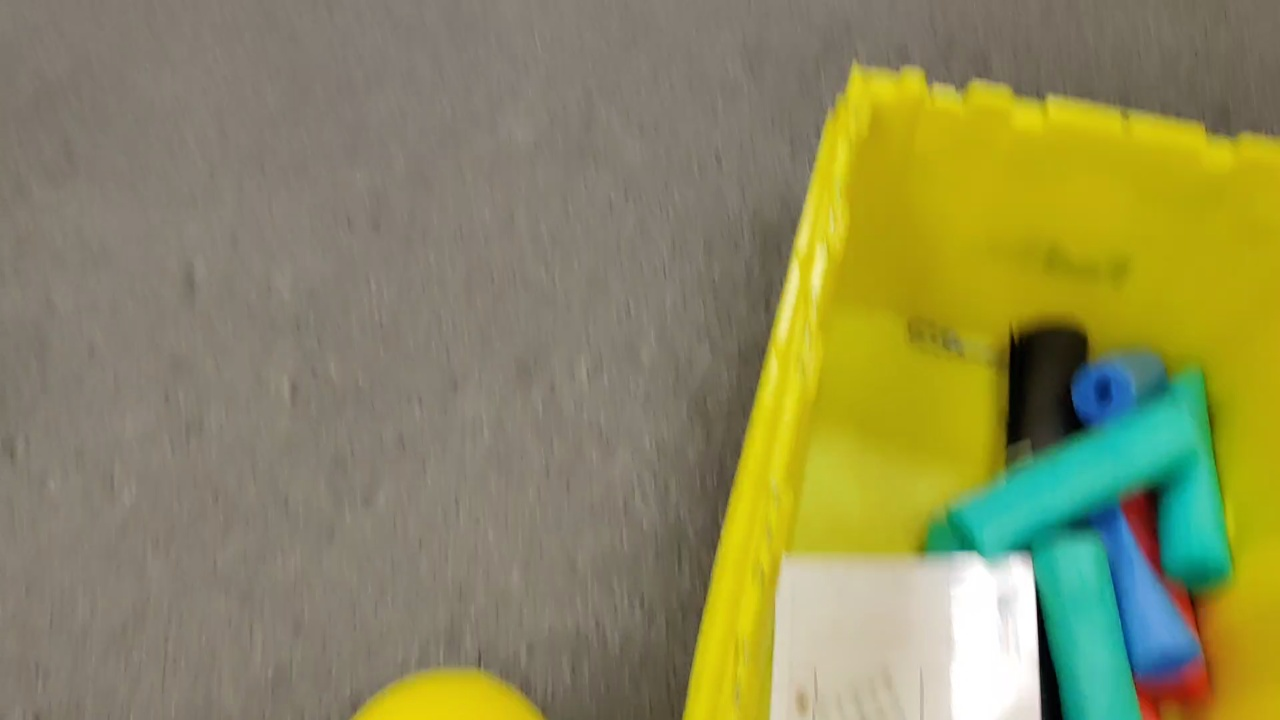Ball: (352, 666, 547, 720)
